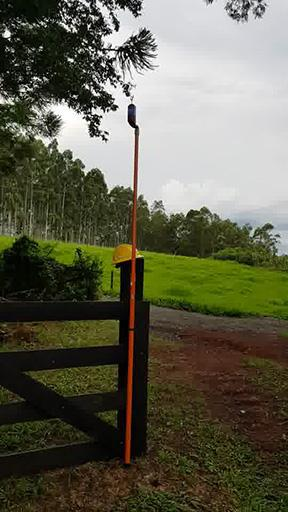Detector_Tensao_Contato: (126, 93, 139, 129)
Vara_Manobra: (122, 127, 141, 465)
